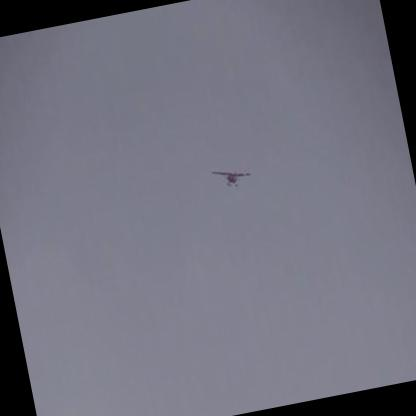plane: (212, 164, 253, 193)
